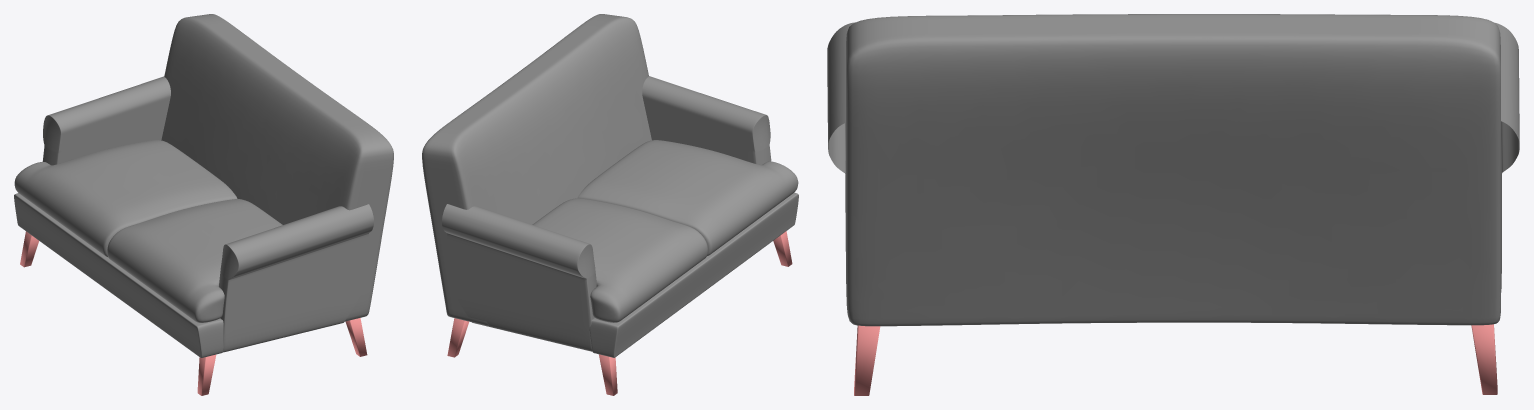
Rendered from sofa1mesh.fbx.
3 renders of one model, left to right at view 1: azimuth 30°, elevation 25°; view 2: azimuth 150°, elevation 25°; view 3: azimuth 270°, elevation 25°, orthographic. The views are drawn at different scales.
Parts seen in each view (by area): view 1: sofa1mesh; view 2: sofa1mesh; view 3: sofa1mesh.
Boxes of the visible parts, x1,y1,x2,y2 form: sofa1mesh: [14, 14, 393, 395]; sofa1mesh: [422, 14, 798, 395]; sofa1mesh: [827, 14, 1519, 395].
Size of the model in its own units: 132 by 135 by 223.
